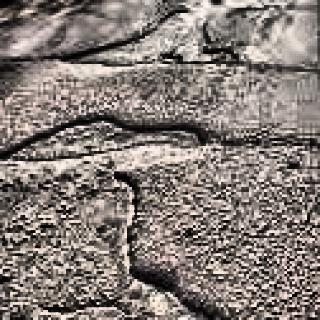crack: (41, 172, 219, 320)
pothole: (4, 108, 203, 162)
